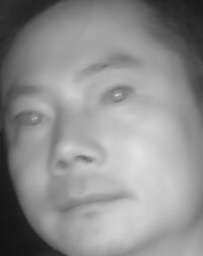eye: (12, 107, 50, 130), (97, 84, 134, 107)
mouth: (51, 184, 130, 221)
